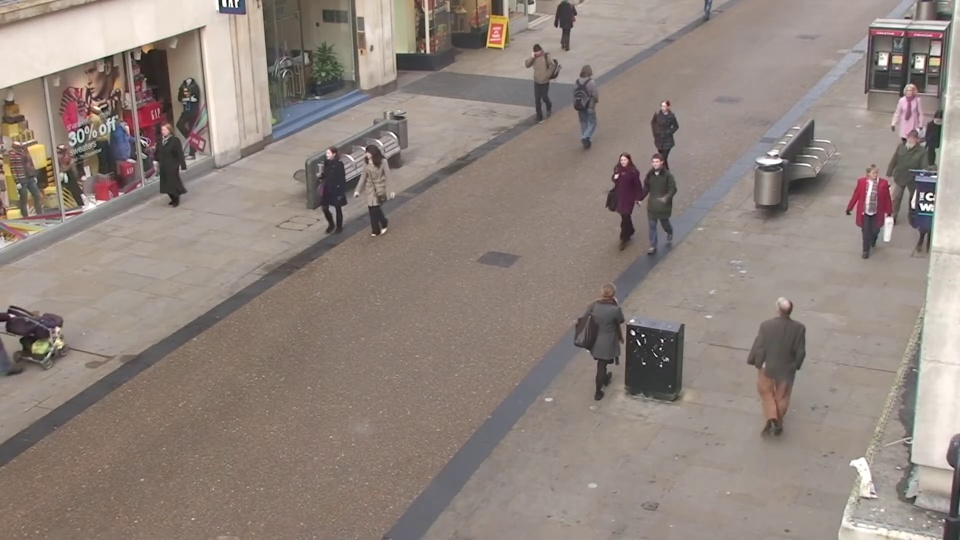pedestrian: (753, 283, 804, 423), (587, 273, 632, 411), (847, 162, 891, 271), (878, 131, 923, 234), (907, 110, 954, 208), (308, 146, 346, 249), (883, 85, 925, 177), (349, 144, 386, 248), (145, 124, 185, 219), (637, 151, 672, 257), (604, 150, 638, 256), (647, 99, 677, 190), (577, 60, 603, 141), (522, 44, 548, 119)
